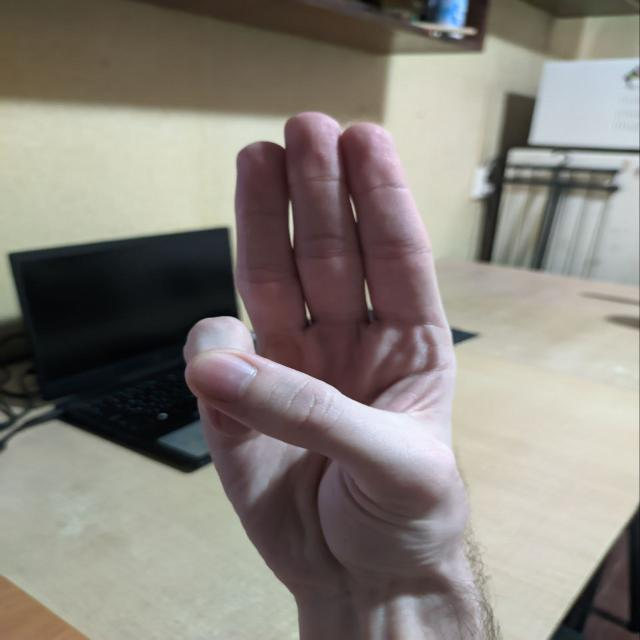sh: (151, 118, 499, 610)
